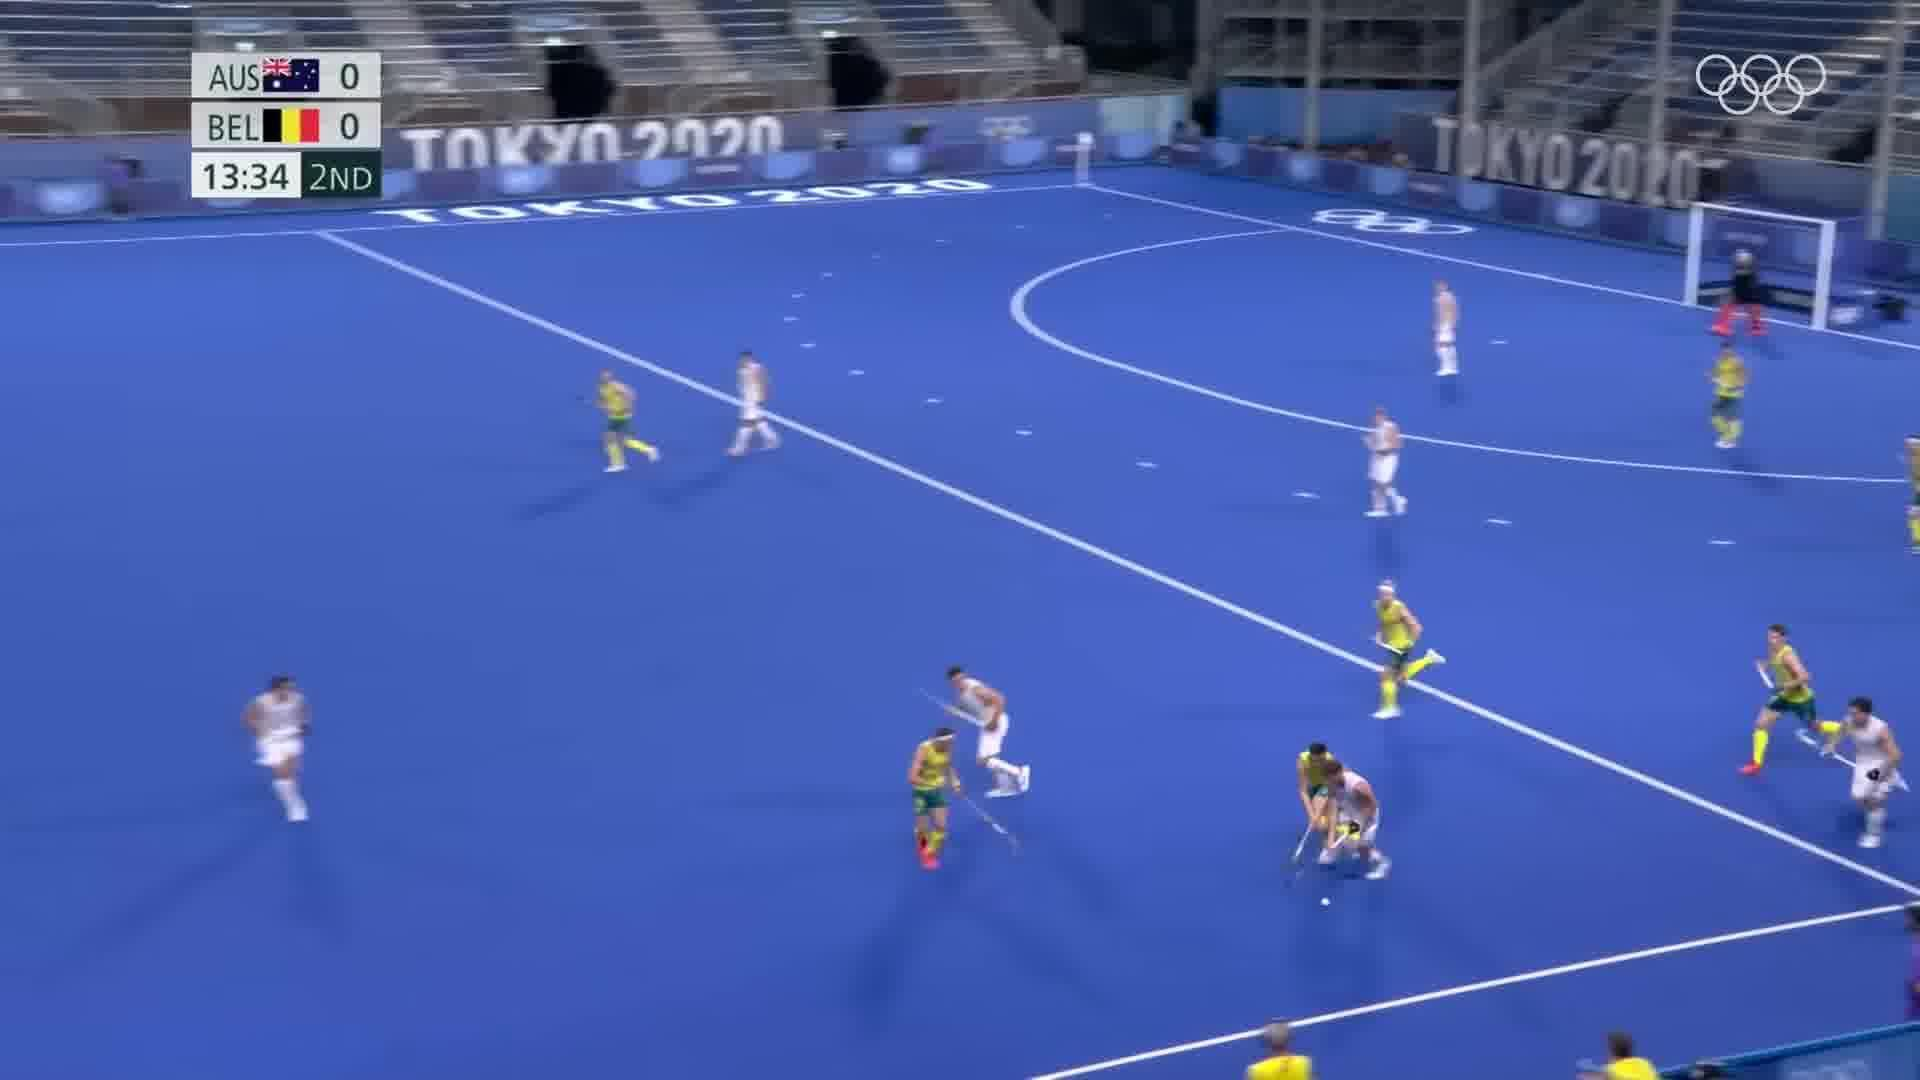ball: (1313, 891, 1335, 916)
